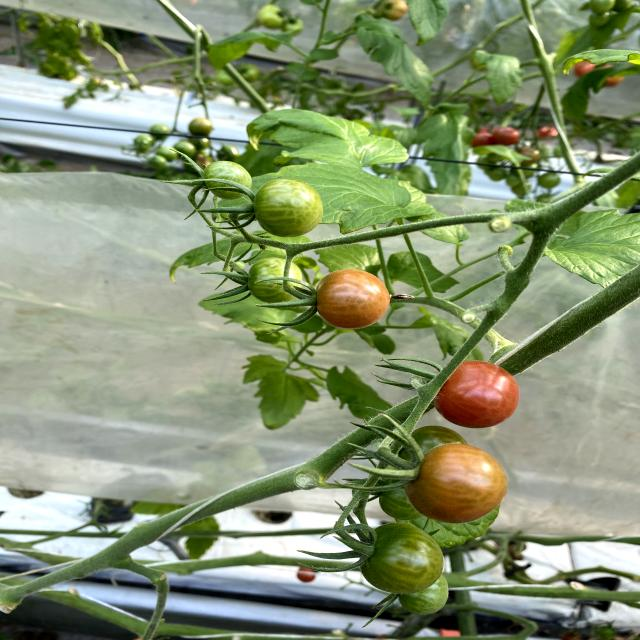ripe0: (358, 522, 445, 593), (254, 178, 324, 238), (249, 257, 301, 303), (204, 160, 253, 199)
ripe2: (408, 442, 509, 524), (431, 359, 520, 429), (315, 269, 392, 330)
